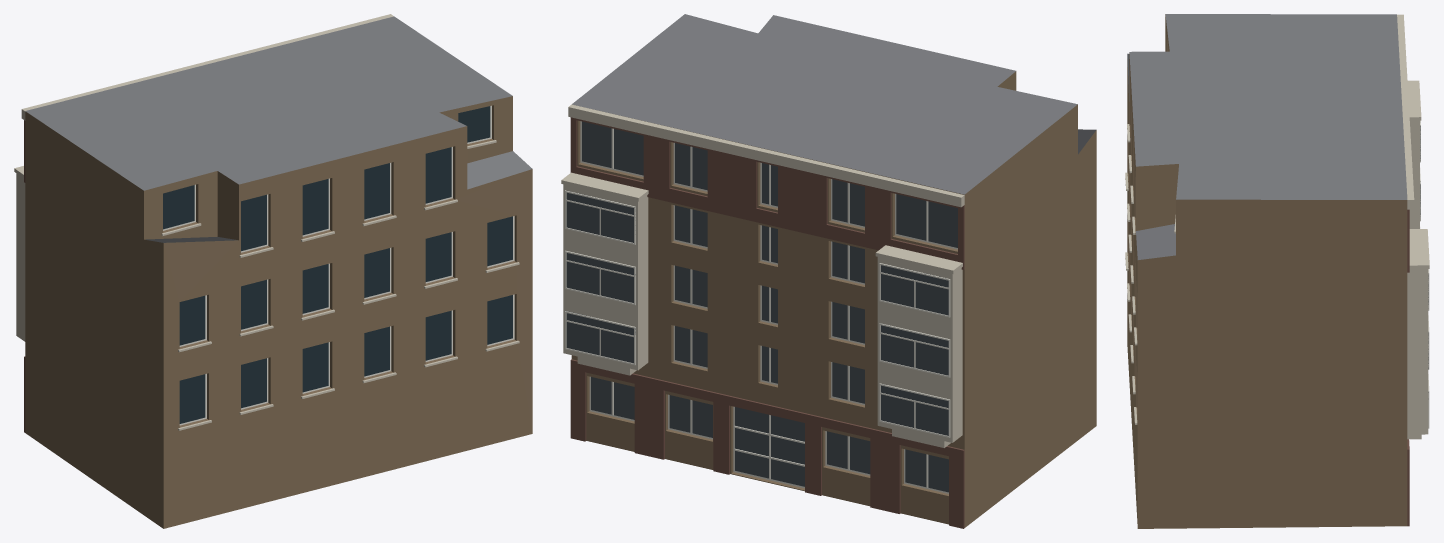
File: recipe-large-haarlemmerweg-105-100677.glb
The picture shows the model from 3 angles, left to right: view 1: azimuth 30°, elevation 25°; view 2: azimuth 150°, elevation 25°; view 3: azimuth 270°, elevation 25°; orthographic projection. The views are drawn at different scales.
Visible parts, largest first — view 1: haarlemmerweg-105-100677; view 2: haarlemmerweg-105-100677; view 3: haarlemmerweg-105-100677.
Part boxes in pixels (bbox=[...]): haarlemmerweg-105-100677: bbox=[14, 14, 532, 528]; haarlemmerweg-105-100677: bbox=[561, 14, 1096, 528]; haarlemmerweg-105-100677: bbox=[1125, 14, 1429, 528].
Size of the model in its own units: 18.28 by 14.94 by 12.51.
